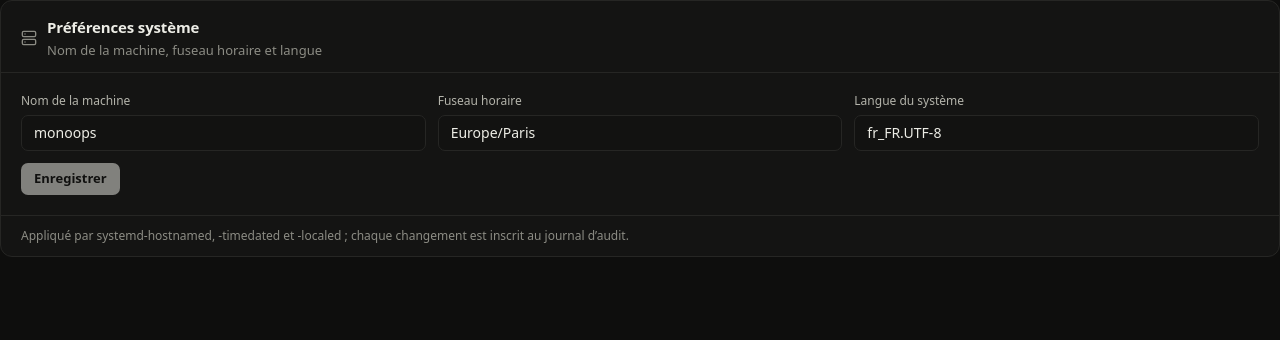
Test: SystemPreferencesCard › confirms the changes, then saves them
This screenshot has width=1280, height=340.
Replace the text in the field labelled "Nom de la machine" with "nas". click: (223, 133)
box: [21,115,426,151]
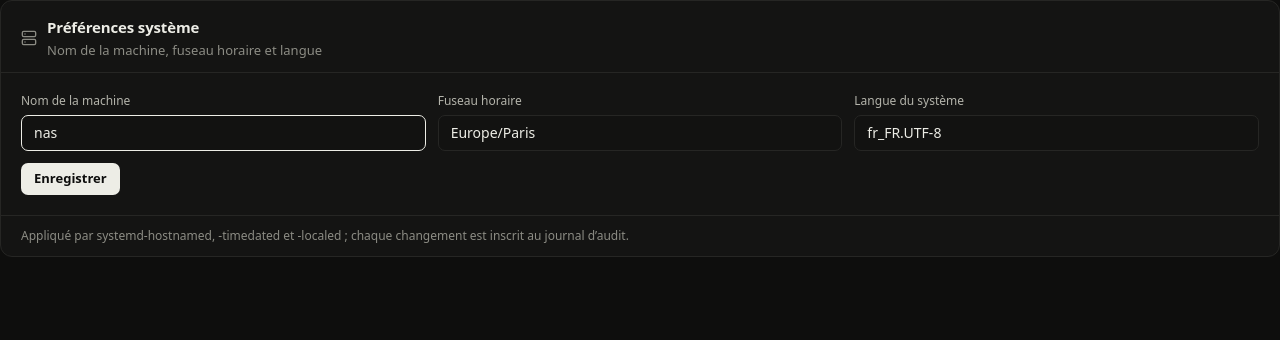
Click the button "Enregistrer". click: (70, 179)
box: [21,163,120,195]
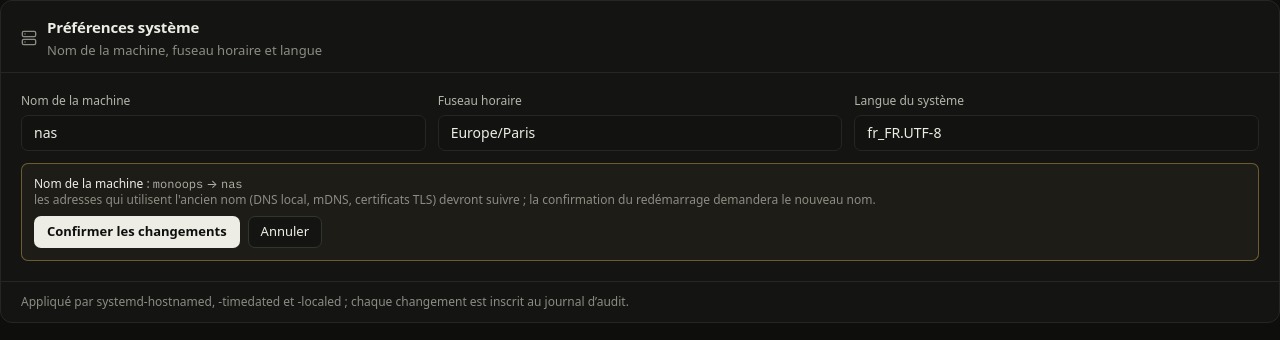
Check: the element named "Confirmer les changements" shows "monoops → nas", box [21,163,1259,261]
Click the button "Confirmer les changements". click: (137, 232)
box: [34,216,240,248]
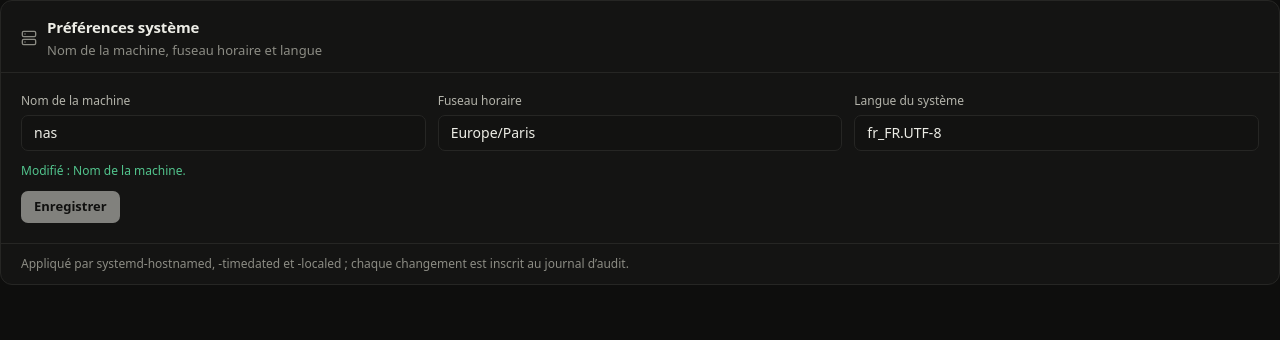
Check: the text "Modifié : Nom de la machine." is shown, box [21,162,186,179]
